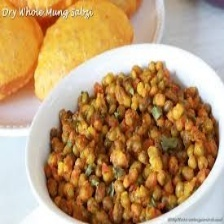sabzi: (32, 56, 224, 224)
